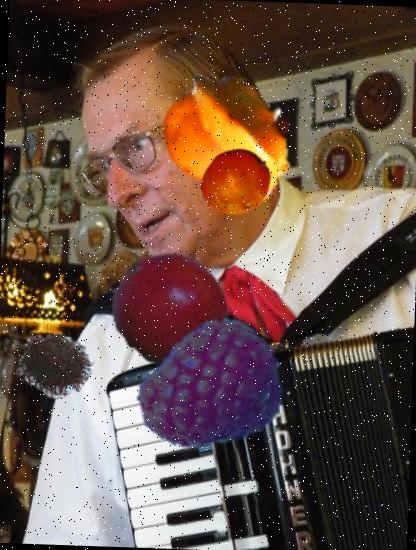Carambula: (154, 63, 304, 214)
Clementine: (198, 144, 275, 221)
Pomegranate: (106, 246, 238, 379)
Rambutan: (15, 323, 94, 402)
Raspberry: (132, 308, 284, 460)
